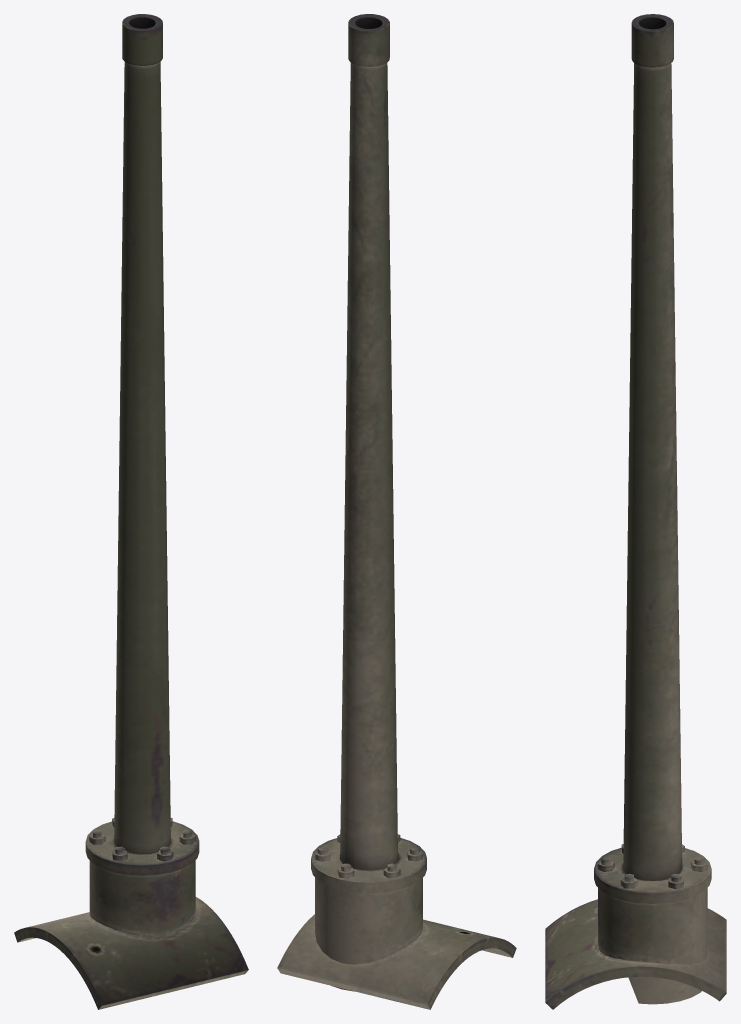
The model's file is Gun_02.glb.
3 views of the same model, side by side, from view 1: azimuth 30°, elevation 25°; view 2: azimuth 150°, elevation 25°; view 3: azimuth 270°, elevation 25° (orthographic). The views are drawn at different scales.
Parts seen in each view (by area): view 1: set_0_group_0; view 2: set_0_group_0; view 3: set_0_group_0.
Part boxes in pixels (x1,y1,x2,y2): set_0_group_0: (14, 14, 248, 1009); set_0_group_0: (277, 14, 516, 1009); set_0_group_0: (545, 14, 726, 1009).
Bounding box in the file's own units: 0.5449 × 3.29 × 0.5632.
Materials: 1 (1 with a texture image).
